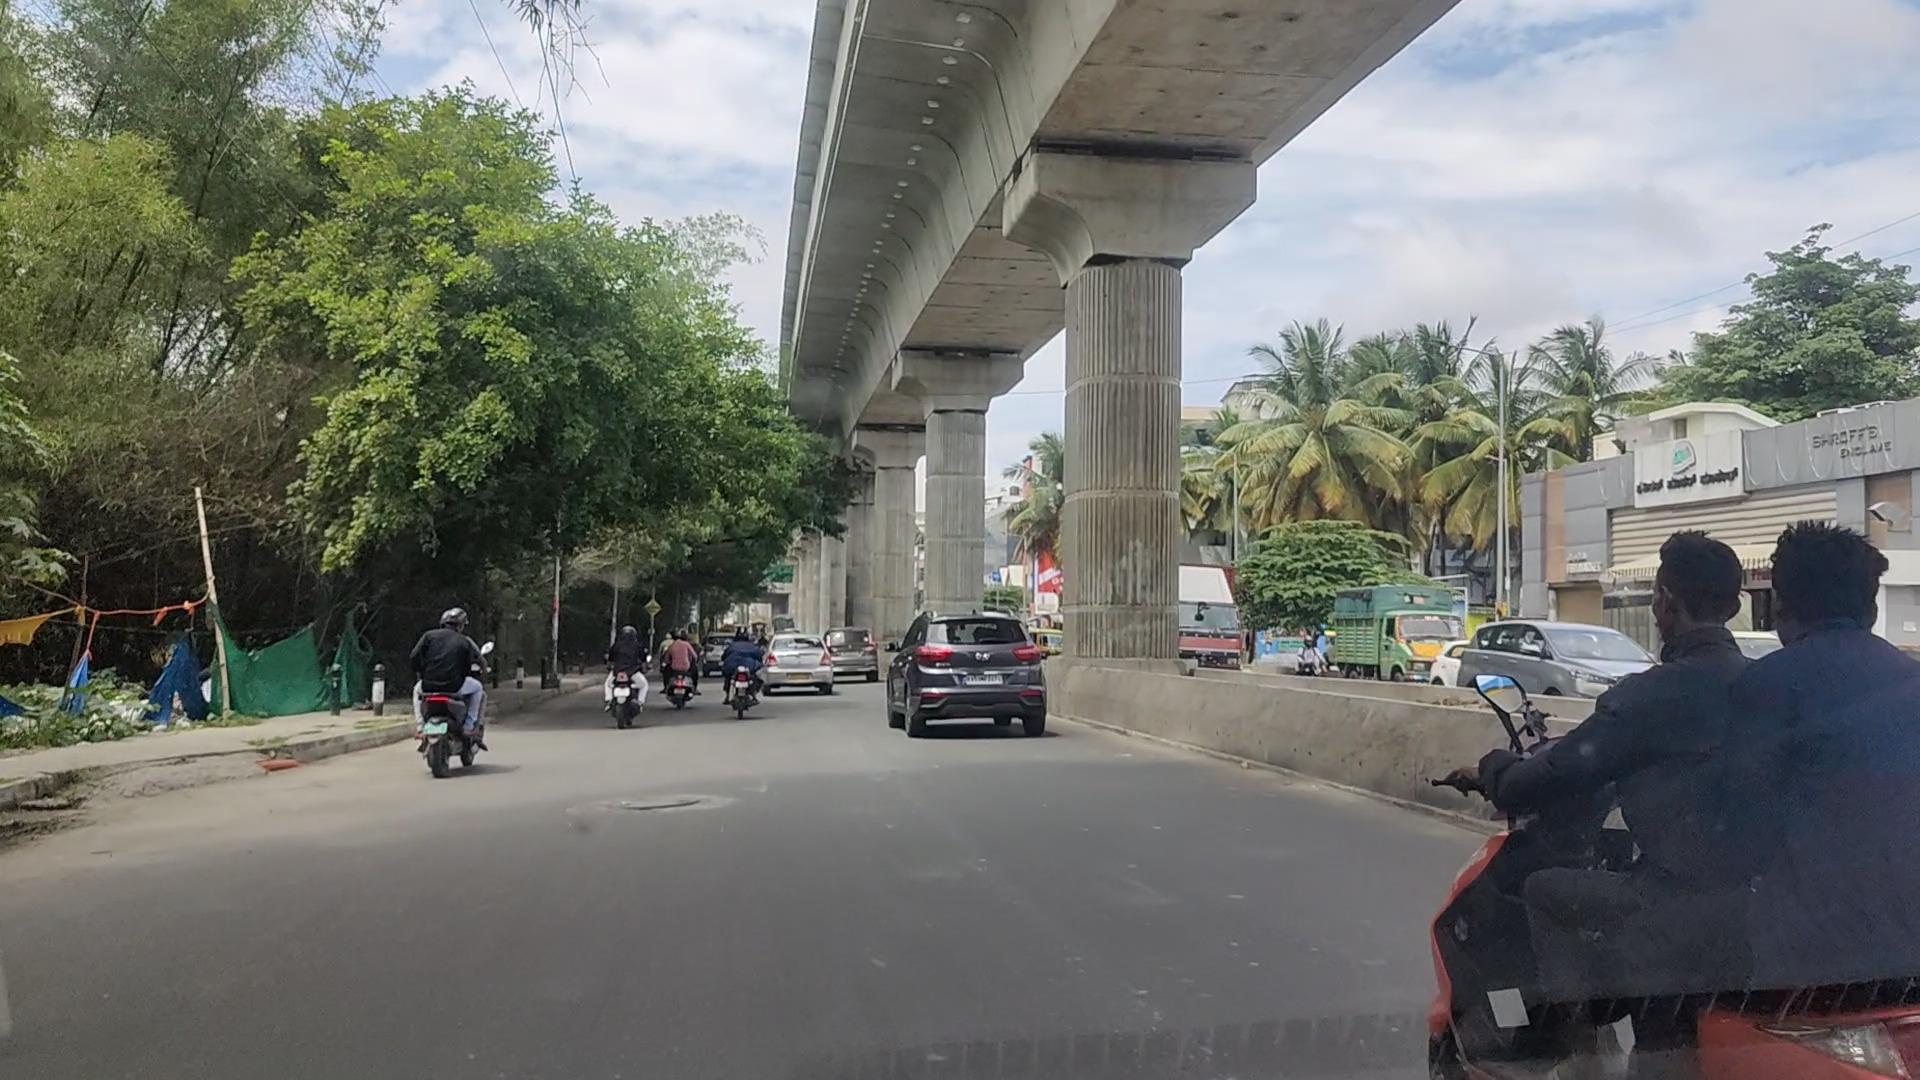LMV: (878, 617, 1051, 752), (404, 589, 484, 791), (724, 621, 777, 728), (609, 616, 657, 735)
RoadDamages: (571, 782, 729, 831)
